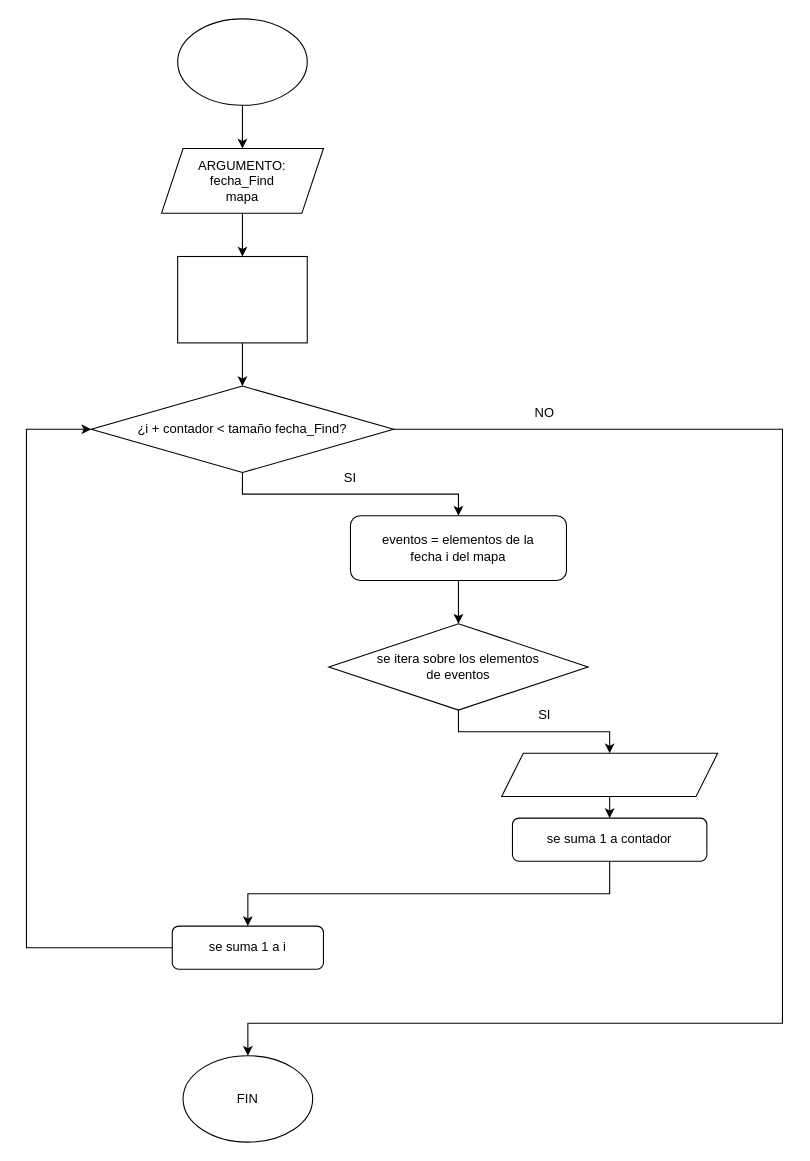
Some shapes in this 810 by 1161 pixel diagram are drawn without their labels. The shapes that lost their labels are listed below. From the top down, each one's centre as x and y in pixels, then its label:
At (x=242, y=61): "INICIO".
At (x=242, y=299): "DECLARAR E INICIALIZA: i = 0 contador = 0".
At (x=609, y=774): "se IMPRIME: el evento".
